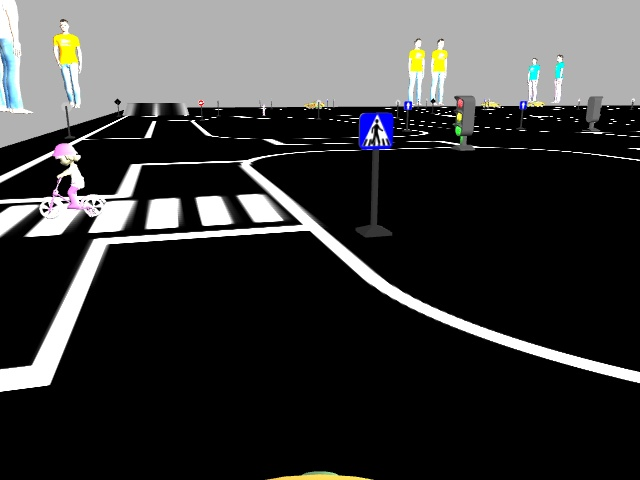Crosswalk: (356, 111, 394, 148)
Pedestrian: (34, 142, 109, 218)
TrafficLight: (451, 93, 475, 138)
